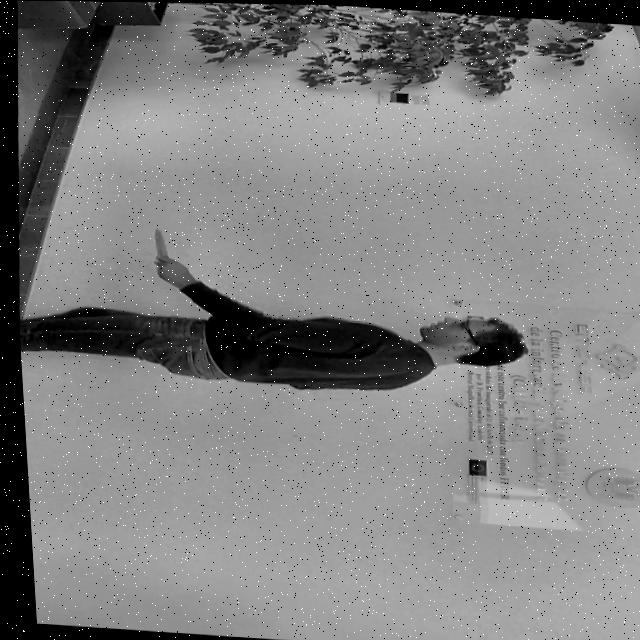knife: (141, 223, 171, 260)
